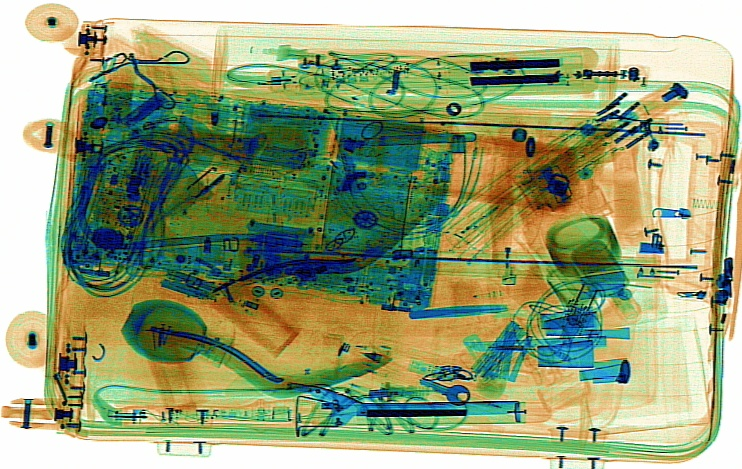lighter: (493, 197, 521, 286)
